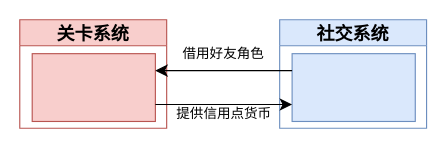
Some shapes in this 446 by 148 pixel diagram are drawn without their labels. Each missing label, with the centre of its shape:
关卡助战: (x=93, y=87)
好友: (x=353, y=87)
